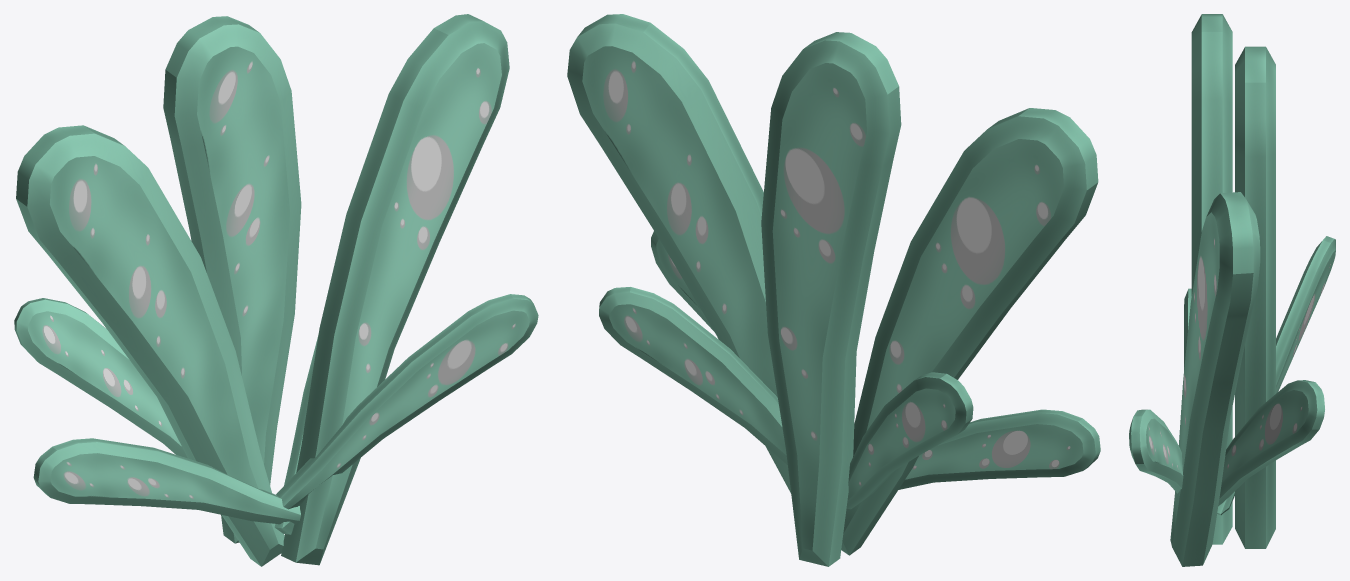
Rendered from Reeds FBX.fbx.
The picture shows the model from 3 angles, left to right: view 1: azimuth 30°, elevation 25°; view 2: azimuth 150°, elevation 25°; view 3: azimuth 270°, elevation 25°; orthographic projection. The views are drawn at different scales.
Parts seen in each view (by area): view 1: pCube8; view 2: pCube8; view 3: pCube8.
Part boxes in pixels (x1,y1,x2,y2): pCube8: (14,14,538,566); pCube8: (567,14,1100,566); pCube8: (1129,14,1335,566).
Bounding box in the file's own units: 2.98 × 3.02 × 1.16.
1 material, 1 textured.
